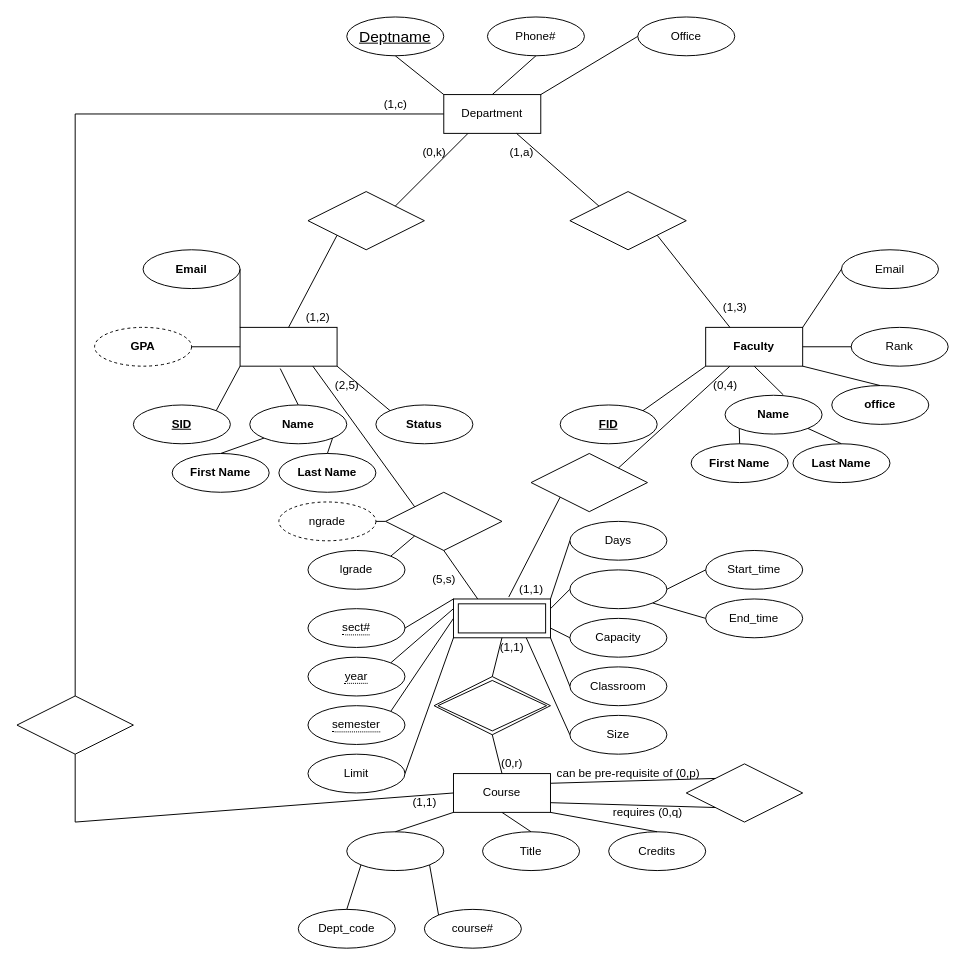
The diagram is 965 pixels wide and 965 high, and some of its shapes have lost their labels. Each missing label, with the centre of its shape:
CID: point (395, 851)
Class: point (501, 618)
DEPENDENT: point (491, 705)
MAJORS: point (365, 220)
OFFERS: point (74, 724)
OONTAINS: point (627, 220)
Pre-requisite: point (744, 792)
Student: point (288, 346)
TAKES: point (443, 520)
TEACHES: point (588, 482)
Time: point (618, 589)
